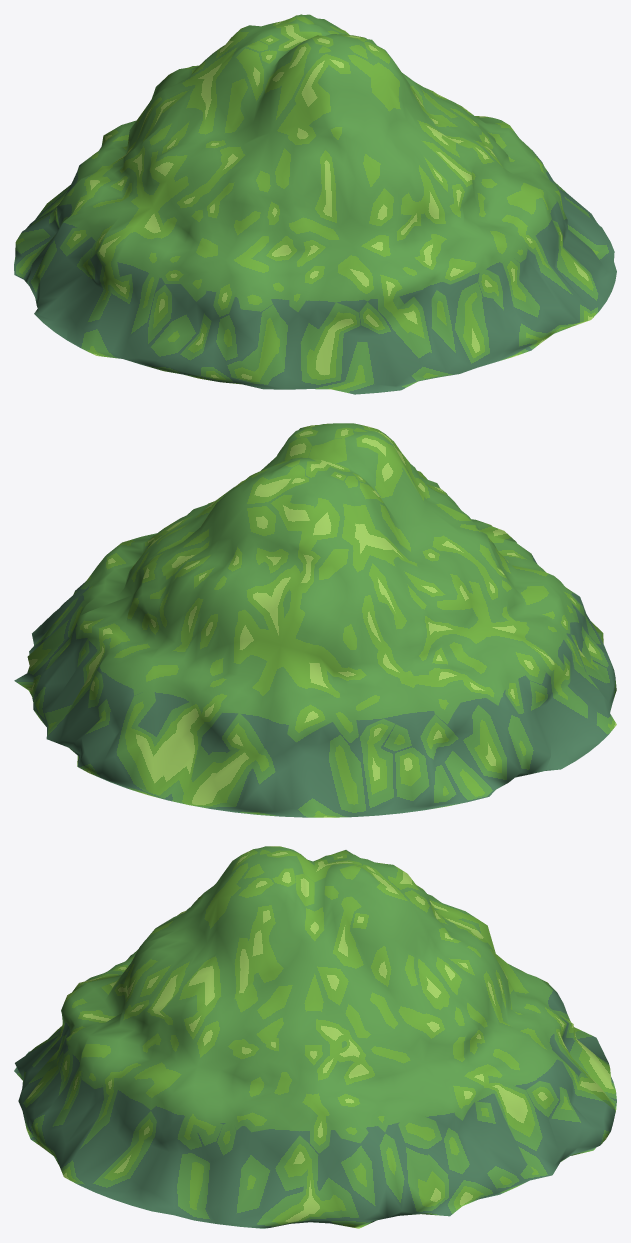
Rendered from yerba.fbx.
The picture shows the model from 3 angles, top to bottom: view 1: azimuth 30°, elevation 25°; view 2: azimuth 150°, elevation 25°; view 3: azimuth 270°, elevation 25°; orthographic projection. The views are drawn at different scales.
Parts seen in each view (by area): view 1: yerba; view 2: yerba; view 3: yerba.
Boxes of the visible parts, <box> form: yerba: <box>14,14,616,394</box>; yerba: <box>14,423,616,817</box>; yerba: <box>14,846,616,1228</box>.
Bounding box in the file's own units: 184 × 81.53 × 182.
